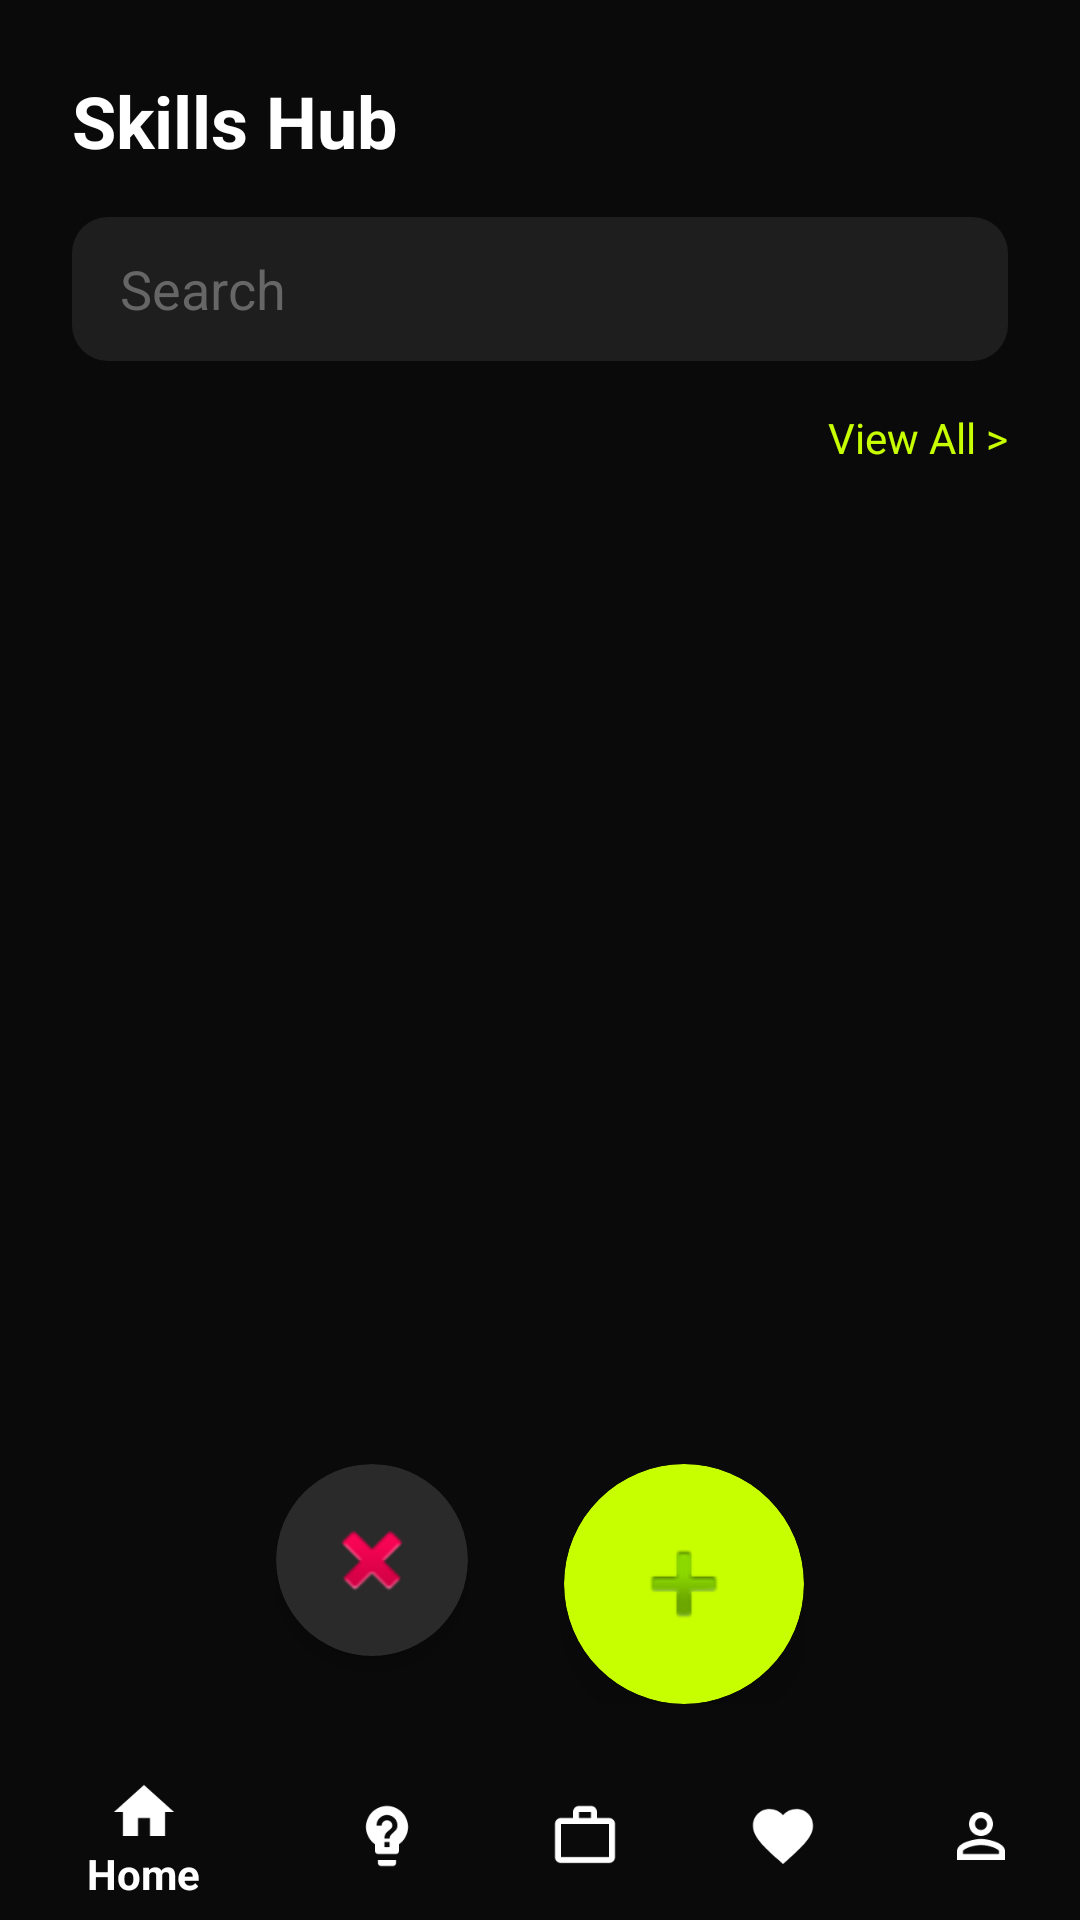

Named icons in this screenshot (1080×1920) and their bounding boxes, BBox(x1, y1, x2, y2):
add: BBox(651, 1550, 717, 1617)
delete: BBox(342, 1531, 402, 1590)
